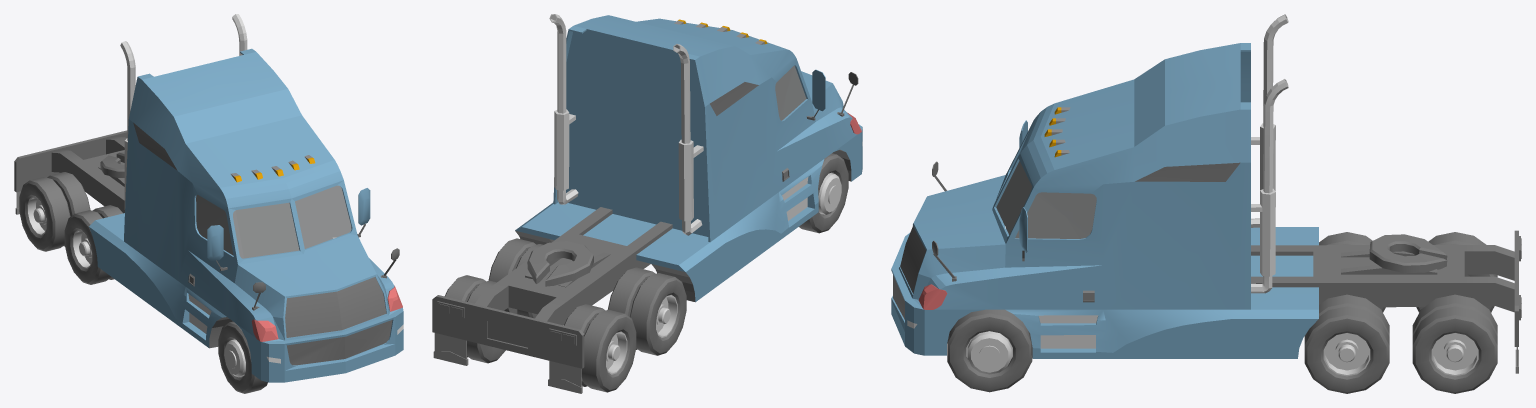
The model's file is blueTruck.glb.
3 renders of one model, left to right at view 1: azimuth 30°, elevation 25°; view 2: azimuth 150°, elevation 25°; view 3: azimuth 270°, elevation 25°, orthographic. The views are drawn at different scales.
Visible parts, largest first — view 1: Cabin_2, wheels_2, bottom_2, exhaust_2, Rearview_mirror1, lights_2, headlights; view 2: Cabin_2, bottom_2, wheels_2, exhaust_2, wheel_wing, Rearview_mirror1; view 3: Cabin_2, wheels_2, bottom_2, exhaust_2.
Boxes of the visible parts, x1=… form: Cabin_2: x1=89, y1=48, x2=403, y2=382; wheels_2: x1=19, y1=172, x2=267, y2=393; bottom_2: x1=14, y1=130, x2=127, y2=213; exhaust_2: x1=120, y1=14, x2=247, y2=209; Rearview_mirror1: x1=207, y1=188, x2=370, y2=270; lights_2: x1=251, y1=285, x2=402, y2=341; headlights: x1=230, y1=155, x2=315, y2=182; Cabin_2: x1=515, y1=15, x2=862, y2=302; bottom_2: x1=432, y1=207, x2=672, y2=368; wheels_2: x1=444, y1=153, x2=848, y2=392; exhaust_2: x1=549, y1=14, x2=703, y2=235; wheel_wing: x1=433, y1=333, x2=582, y2=393; Rearview_mirror1: x1=807, y1=69, x2=825, y2=120; Cabin_2: x1=891, y1=43, x2=1318, y2=358; wheels_2: x1=947, y1=232, x2=1497, y2=393; bottom_2: x1=1251, y1=230, x2=1521, y2=346; exhaust_2: x1=1251, y1=14, x2=1288, y2=293.
Bounding box in the file's own units: 1.83 × 2.75 × 5.14.
